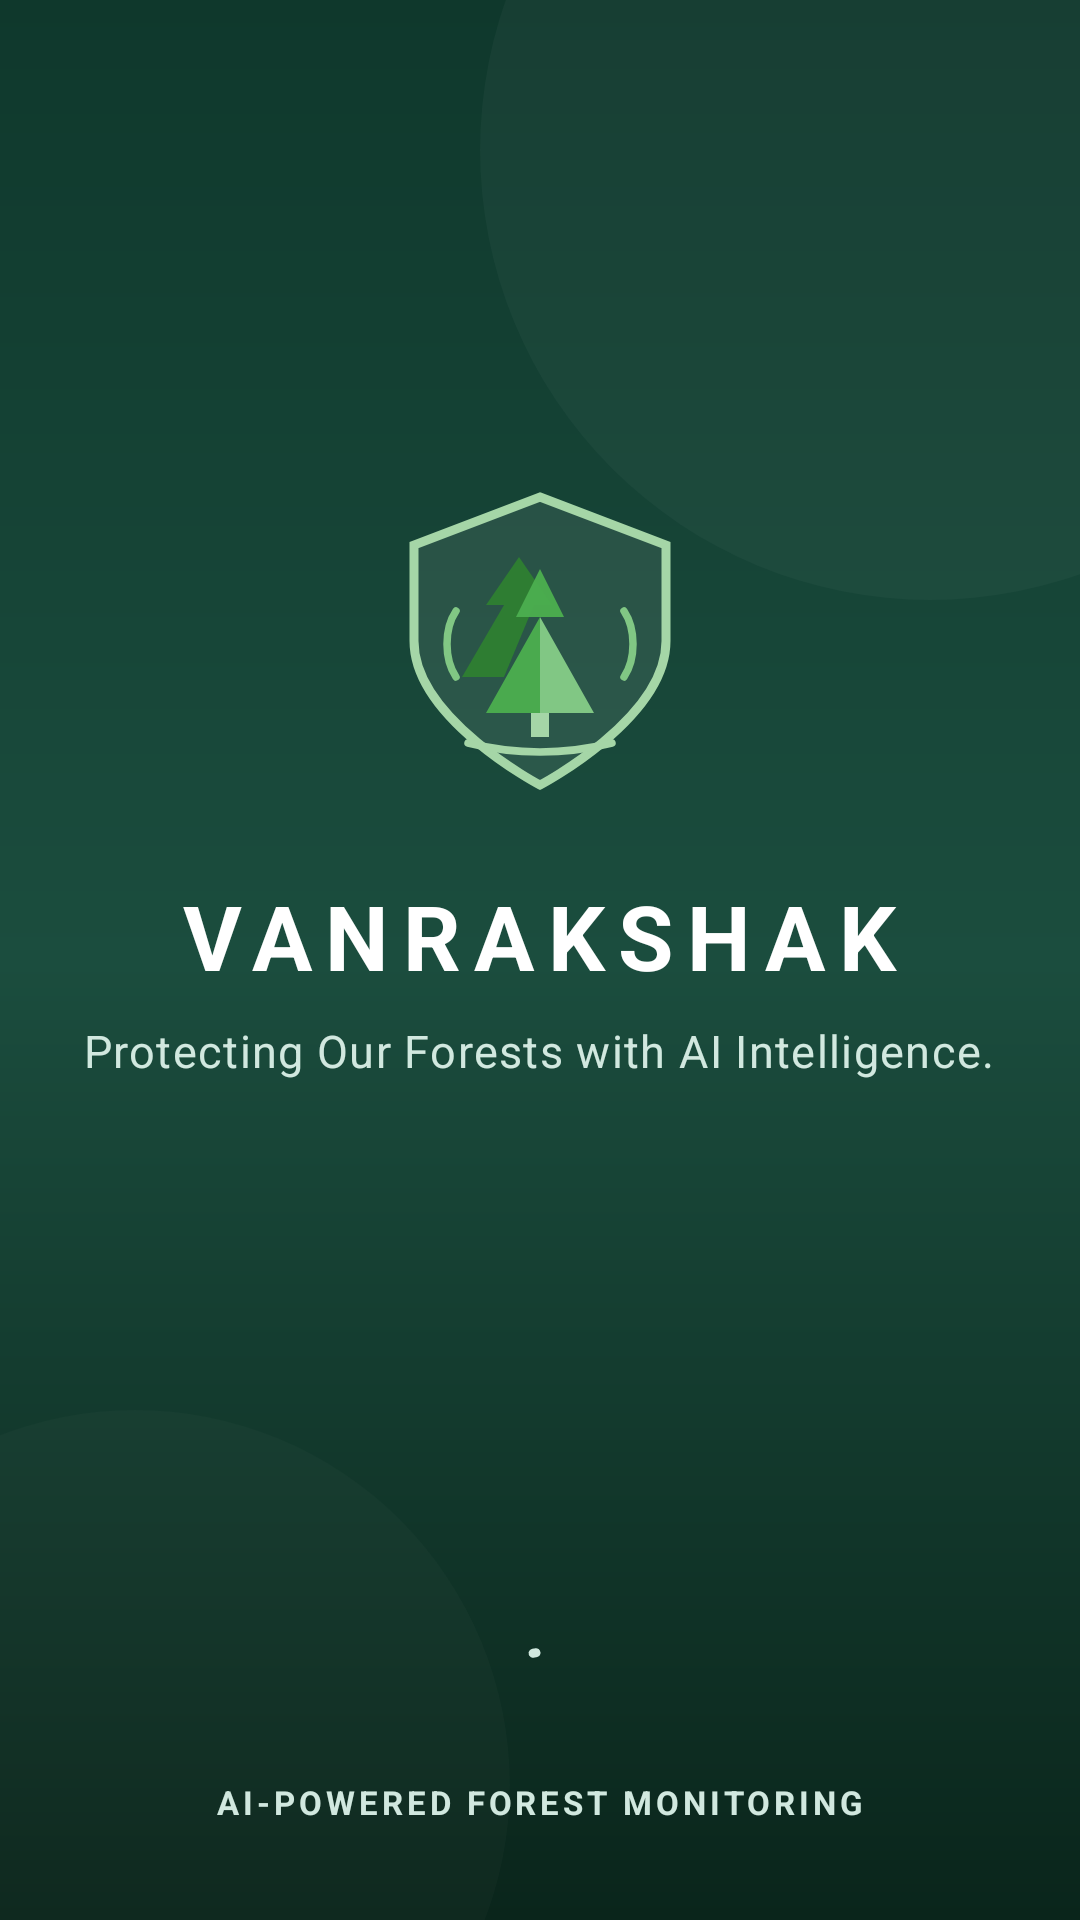

Icons on this 1080 × 1920 Android screen, each with the point to tap as (x=x, y=y):
forest emblem: (x=540, y=641)
